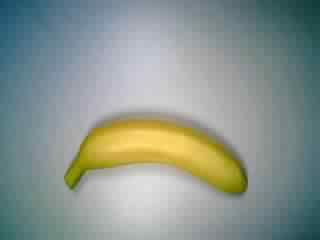banana: (62, 111, 252, 204)
